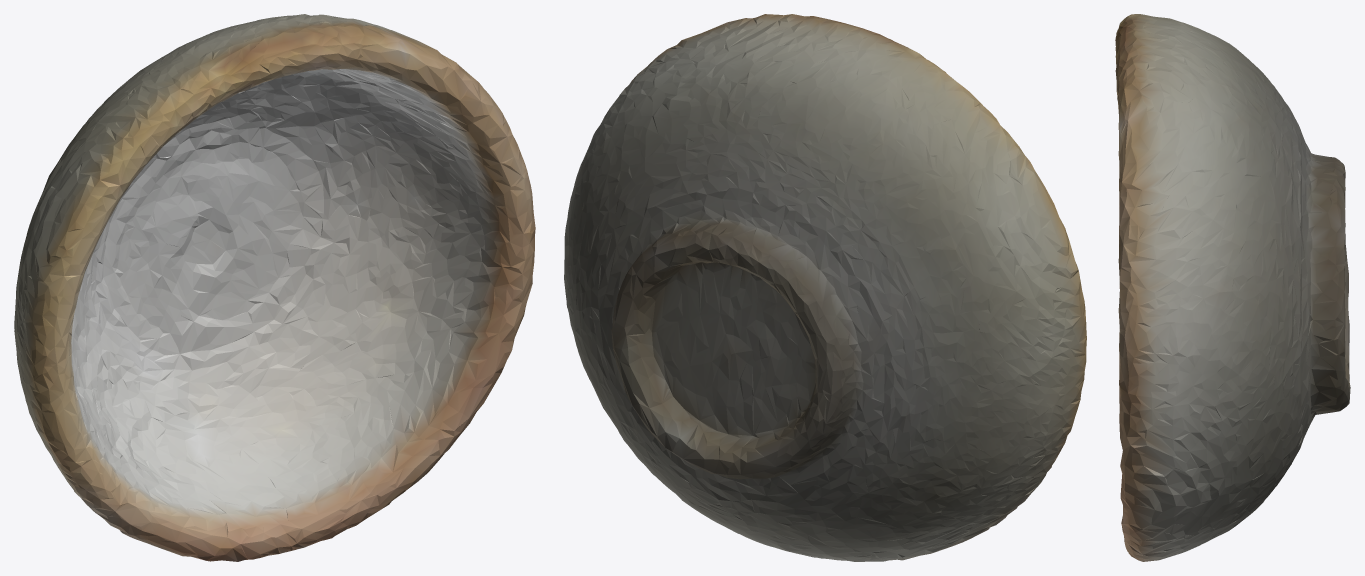
Rendered from bowl_3.glb.
The picture shows the model from 3 angles, left to right: view 1: azimuth 30°, elevation 25°; view 2: azimuth 150°, elevation 25°; view 3: azimuth 270°, elevation 25°; orthographic projection. The views are drawn at different scales.
Visible parts, largest first — view 1: geometry_0; view 2: geometry_0; view 3: geometry_0.
Part boxes in pixels (<box>): geometry_0: <box>14,14,535,561</box>; geometry_0: <box>564,14,1086,561</box>; geometry_0: <box>1115,14,1350,561</box>.
Bounding box in the file's own units: 1 × 0.999 × 0.4284.
